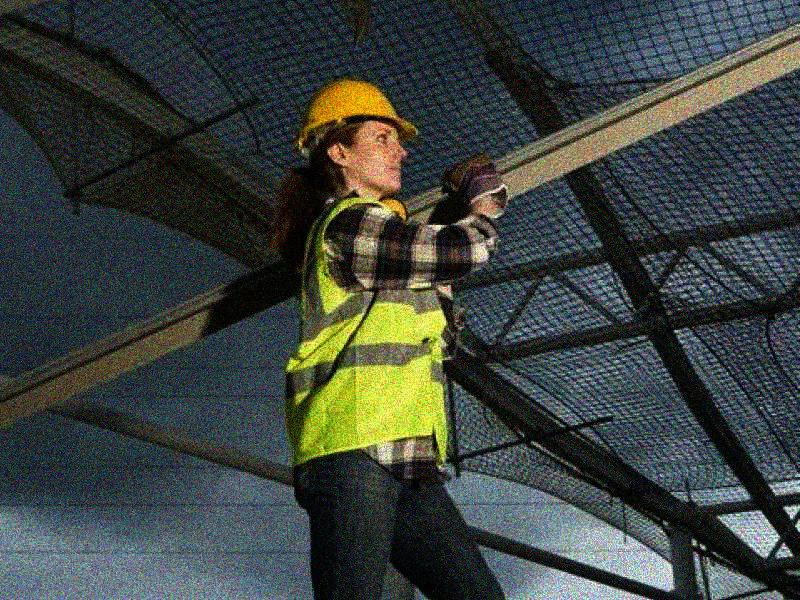helmet: (296, 79, 418, 198)
